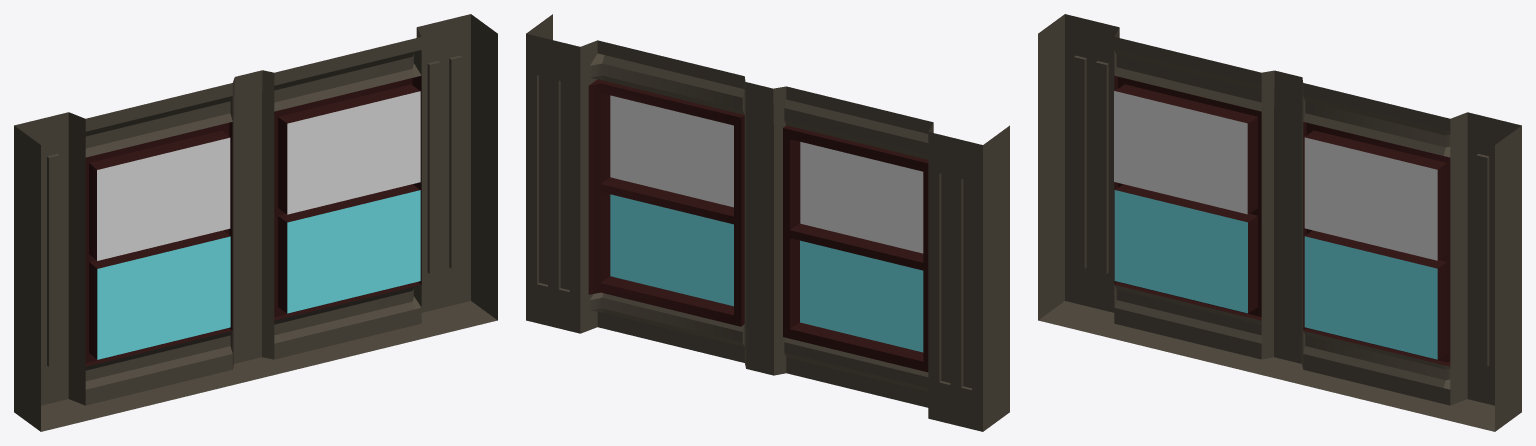
Rendered from P_F_OLDType4SansBF.fbx.
3 views of the same model, side by side, from view 1: azimuth 30°, elevation 25°; view 2: azimuth 150°, elevation 25°; view 3: azimuth 330°, elevation 25° (orthographic).
Parts seen in each view (by area): view 1: P_F_OLDType4SansBF; view 2: P_F_OLDType4SansBF; view 3: P_F_OLDType4SansBF.
Boxes of the visible parts, bbox=[...] form: P_F_OLDType4SansBF: bbox=[14, 14, 497, 431]; P_F_OLDType4SansBF: bbox=[526, 14, 1009, 431]; P_F_OLDType4SansBF: bbox=[1038, 14, 1521, 431].
Bounding box in the file's own units: 500 × 300 × 50.86.
